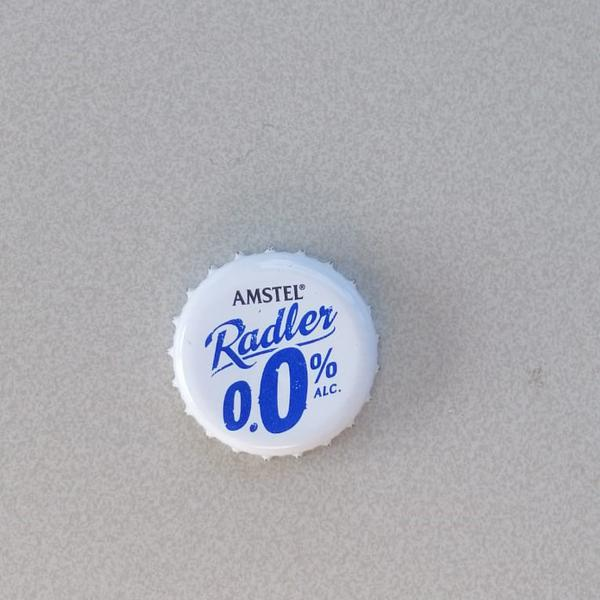amstelradler0.0: (165, 239, 384, 470)
